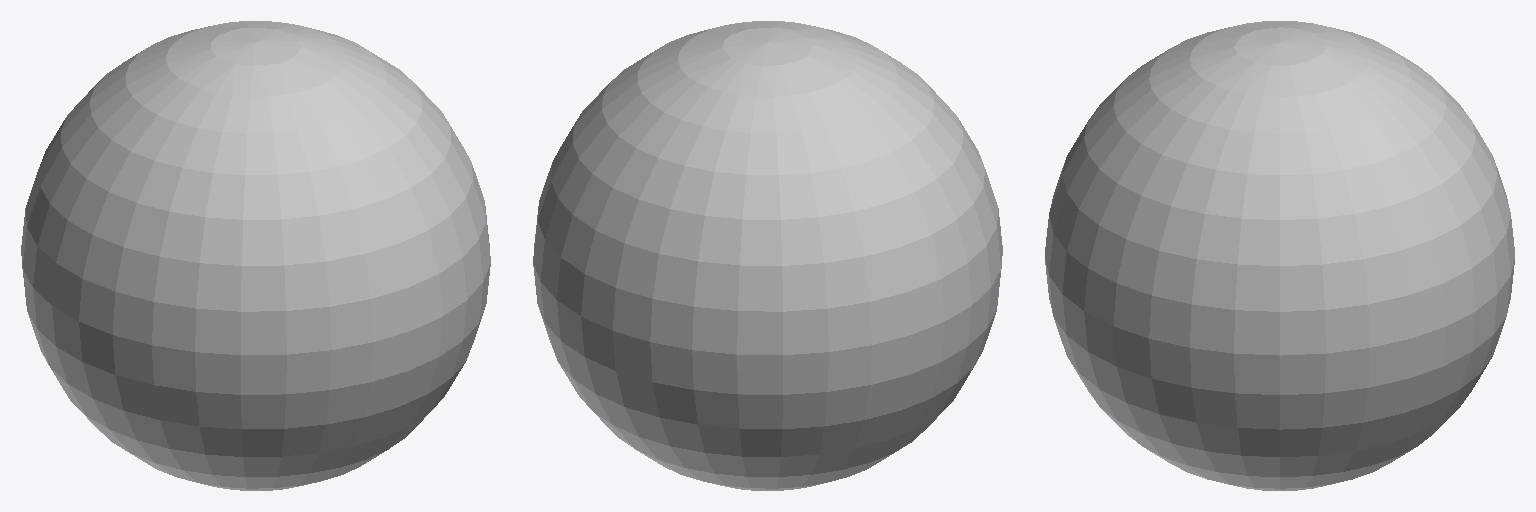
Rendered from transparent_sphere.obj.
The picture shows the model from 3 angles: view 1: azimuth 30°, elevation 25°; view 2: azimuth 150°, elevation 25°; view 3: azimuth 270°, elevation 25°; orthographic projection.
Parts seen in each view (by area): view 1: Sphere; view 2: Sphere; view 3: Sphere.
Boxes of the visible parts, box(x1,y1,x2,y2) form: Sphere: box(21, 21, 490, 490); Sphere: box(533, 21, 1002, 490); Sphere: box(1045, 21, 1514, 490).
Size of the model in its own units: 96.27 by 96.27 by 96.27.